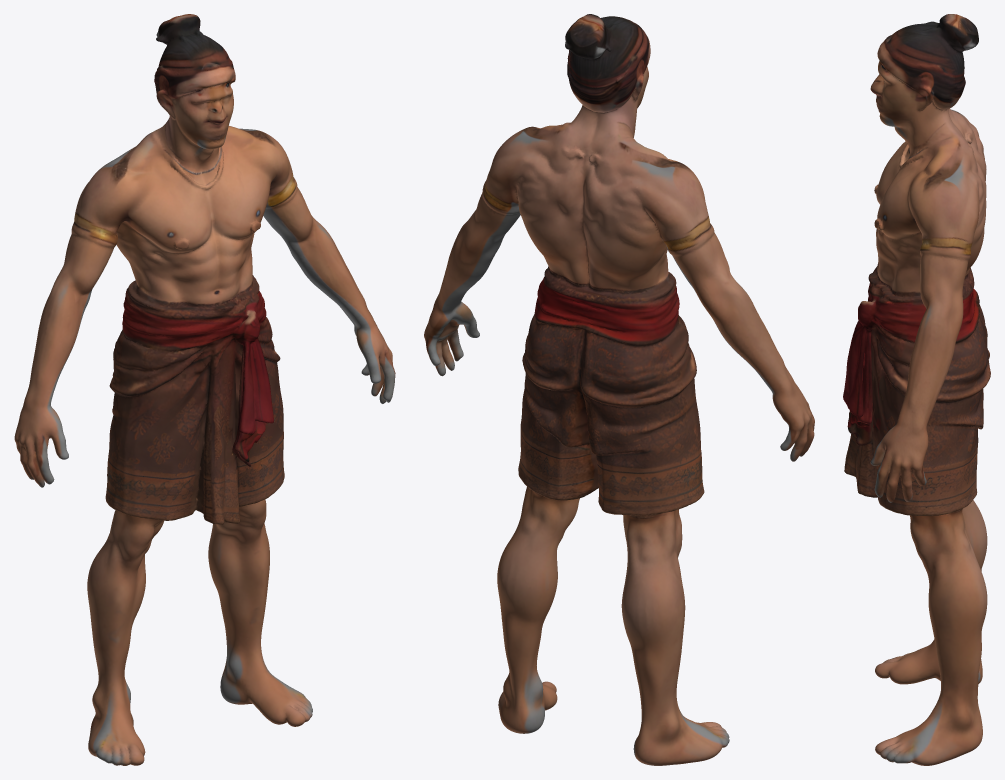
The model's file is wijaya-tripo.glb.
The picture shows the model from 3 angles, left to right: view 1: azimuth 30°, elevation 25°; view 2: azimuth 150°, elevation 25°; view 3: azimuth 270°, elevation 25°; orthographic projection. The views are drawn at different scales.
Parts seen in each view (by area): view 1: tripo_node_85172245-dd11-4482-ad81-12693c6f063e; view 2: tripo_node_85172245-dd11-4482-ad81-12693c6f063e; view 3: tripo_node_85172245-dd11-4482-ad81-12693c6f063e.
Boxes of the visible parts, left/top/right/bottom form: tripo_node_85172245-dd11-4482-ad81-12693c6f063e: left=14, top=14, right=395, bottom=765; tripo_node_85172245-dd11-4482-ad81-12693c6f063e: left=424, top=14, right=814, bottom=765; tripo_node_85172245-dd11-4482-ad81-12693c6f063e: left=843, top=14, right=990, bottom=765.
Size of the model in its own units: 0.5485 by 1 by 0.1906.
Materials: 1 (1 with a texture image).
